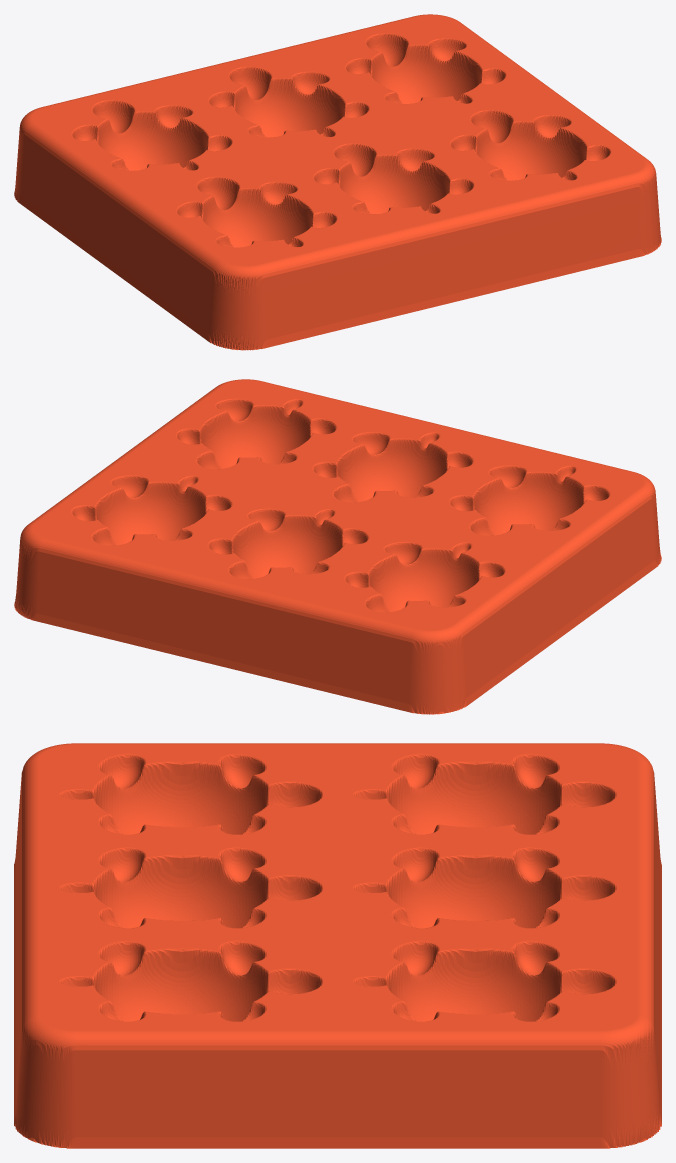
Rendered from mold.glb.
The picture shows the model from 3 angles, top to bottom: view 1: azimuth 30°, elevation 25°; view 2: azimuth 150°, elevation 25°; view 3: azimuth 270°, elevation 25°; orthographic projection. The views are drawn at different scales.
Parts seen in each view (by area): view 1: geometry_0; view 2: geometry_0; view 3: geometry_0.
Boxes of the visible parts, x1=… form: geometry_0: x1=14, y1=14, x2=661, y2=350; geometry_0: x1=14, y1=379, x2=661, y2=714; geometry_0: x1=14, y1=743, x2=661, y2=1148.
Size of the model in its own units: 0.1068 by 0.0175 by 0.0955.
